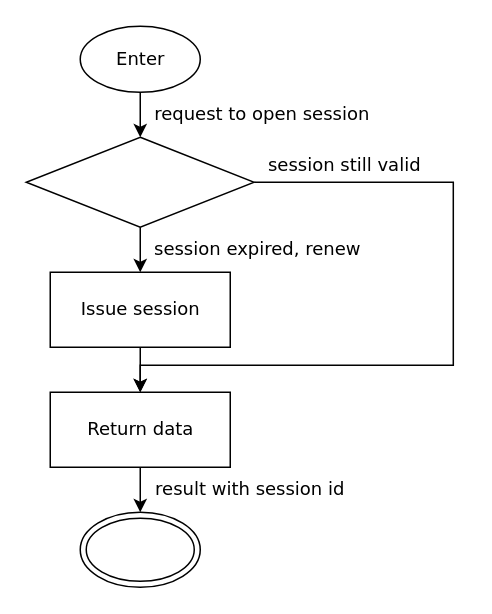
The diagram is 492 pixels wide and 614 high, and some of its shapes have lost their labels. Here are the shapes that lost their labels. From the top down, the centre of each, then its label:
the point at 139,181: Session valid?
the point at 139,549: Take
